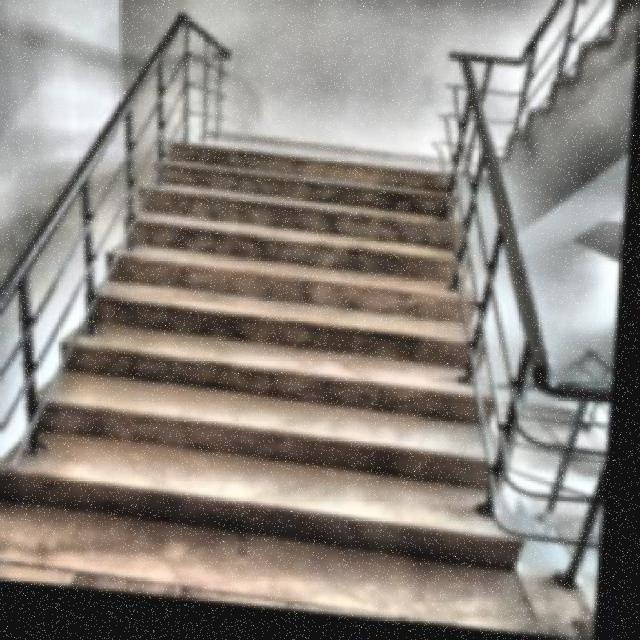stair: (1, 142, 515, 560)
